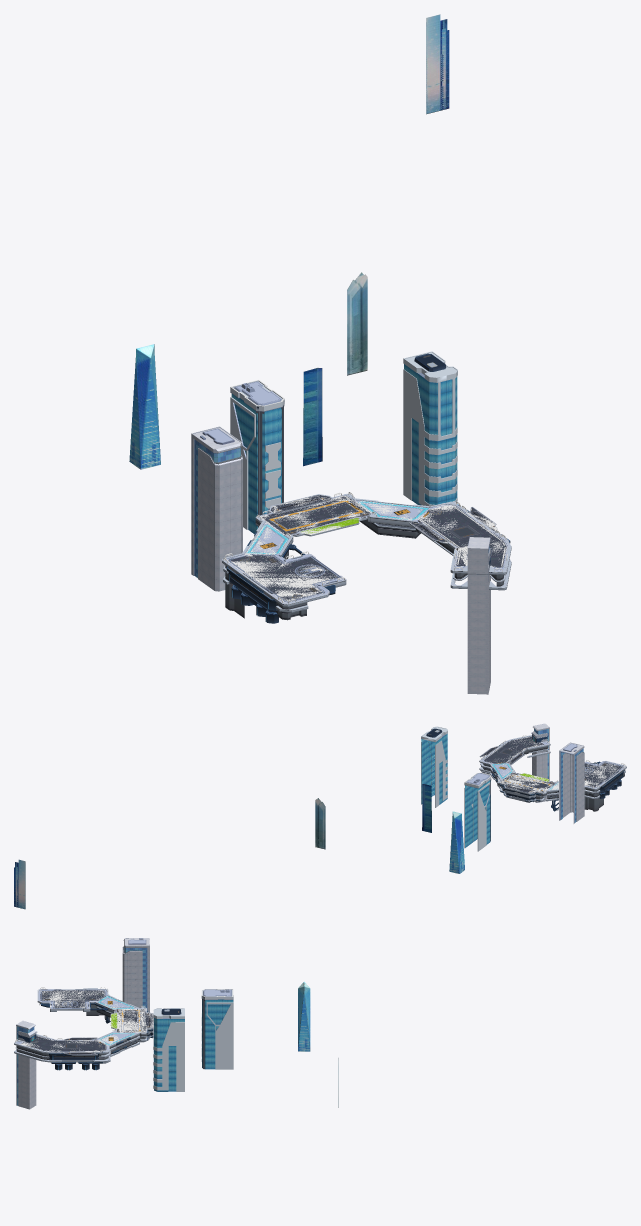
File: hod.fbx
The picture shows the model from 3 angles, top to bottom: view 1: azimuth 30°, elevation 25°; view 2: azimuth 150°, elevation 25°; view 3: azimuth 270°, elevation 25°; orthographic projection. The views are drawn at different scales.
Visible parts, largest first — view 1: rb_01_hod_build_04, rb_01_hod_build_02, rb_01_hod_build_03, rb_01_hod_ground_01, rb_01_hod_build_01, rb_01_hod_floor_05, rb_01_hod_floor_04, rb_01_hod_build_05, rb_01_hod_floor_02, rb_01_hod_build_06, rb_01_hod_build_08, rb_01_hod_build_07 (+3 smaller); view 2: rb_01_hod_build_03, rb_01_hod_build_02, rb_01_hod_build_04, rb_01_hod_ground_01, rb_01_hod_floor_02, rb_01_hod_floor_04, rb_01_hod_floor_05, rb_01_hod_build_05, rb_01_hod_build_01, rb_01_hod_build_06, rb_01_hod_build_08, rb_01_hod_build_07 (+3 smaller); view 3: rb_01_hod_build_04, rb_01_hod_build_03, rb_01_hod_build_02, rb_01_hod_ground_01, rb_01_hod_floor_02, rb_01_hod_build_01, rb_01_hod_floor_05, rb_01_hod_build_05, rb_01_hod_floor_04, rb_01_hod_backfloor_02, rb_01_hod_floor_03.
Boxes of the visible parts, x1,y1,x2,y2 form: rb_01_hod_build_04: (403, 351, 457, 506); rb_01_hod_build_02: (191, 426, 242, 591); rb_01_hod_build_03: (230, 380, 284, 533); rb_01_hod_ground_01: (228, 495, 507, 602); rb_01_hod_build_01: (466, 537, 492, 694); rb_01_hod_floor_05: (222, 544, 346, 609); rb_01_hod_floor_04: (255, 493, 371, 536); rb_01_hod_build_05: (129, 344, 160, 469); rb_01_hod_floor_02: (415, 501, 511, 582); rb_01_hod_build_06: (426, 14, 449, 114); rb_01_hod_build_08: (347, 272, 367, 375); rb_01_hod_build_07: (303, 368, 322, 466); rb_01_hod_build_03: (464, 772, 491, 851); rb_01_hod_build_02: (559, 742, 584, 823); rb_01_hod_build_04: (421, 726, 447, 807); rb_01_hod_ground_01: (488, 737, 623, 792); rb_01_hod_floor_02: (479, 735, 550, 766); rb_01_hod_floor_04: (497, 773, 555, 796); rb_01_hod_floor_05: (584, 761, 626, 791); rb_01_hod_build_05: (449, 811, 464, 873); rb_01_hod_build_01: (531, 723, 549, 802); rb_01_hod_build_06: (14, 859, 25, 909); rb_01_hod_build_08: (315, 798, 325, 849); rb_01_hod_build_07: (422, 784, 431, 832); rb_01_hod_build_04: (153, 1008, 184, 1091); rb_01_hod_build_03: (201, 989, 233, 1069); rb_01_hod_build_02: (122, 938, 149, 1012); rb_01_hod_ground_01: (20, 990, 153, 1052); rb_01_hod_floor_02: (14, 1034, 109, 1060); rb_01_hod_build_01: (16, 1020, 37, 1109); rb_01_hod_floor_05: (37, 989, 108, 1011); rb_01_hod_build_05: (298, 982, 310, 1051); rb_01_hod_floor_04: (110, 1007, 153, 1037); rb_01_hod_backfloor_02: (14, 1049, 109, 1070); rb_01_hod_floor_03: (96, 1031, 139, 1057).
Size of the model in its own units: 147 by 43.75 by 202.
